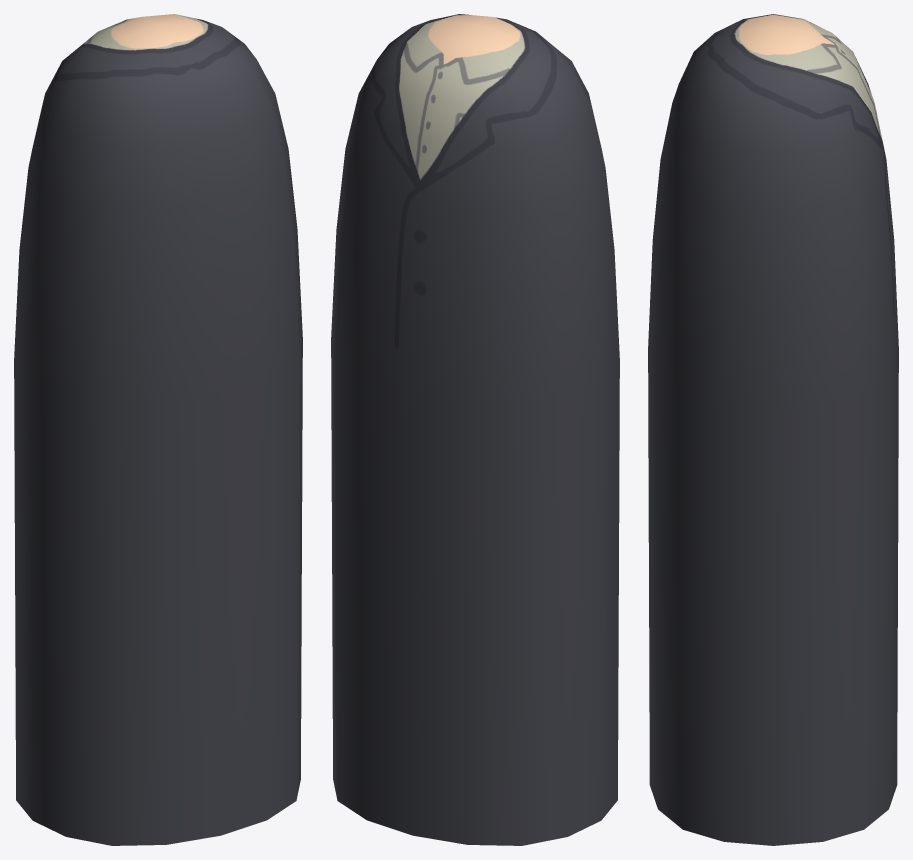
Rendered from Oden_Person_Model2.gltf.
The picture shows the model from 3 angles, left to right: view 1: azimuth 30°, elevation 25°; view 2: azimuth 150°, elevation 25°; view 3: azimuth 270°, elevation 25°; orthographic projection.
Parts seen in each view (by area): view 1: Oden_Person_Model2; view 2: Oden_Person_Model2; view 3: Oden_Person_Model2.
Boxes of the visible parts, <box> form: Oden_Person_Model2: <box>14,14,302,845</box>; Oden_Person_Model2: <box>331,14,619,845</box>; Oden_Person_Model2: <box>648,14,898,845</box>.
Bounding box in the file's own units: 5.63 × 16.14 × 4.84.
1 material, 1 textured.
